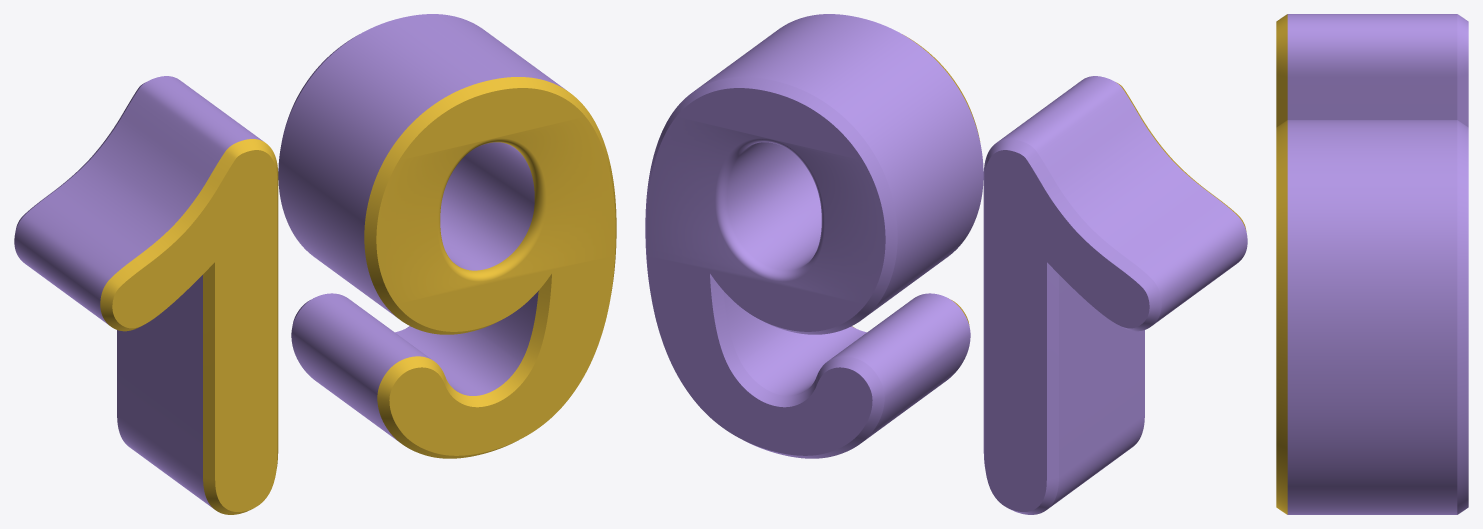
3 renders of one model, left to right at view 1: azimuth 30°, elevation 25°; view 2: azimuth 150°, elevation 25°; view 3: azimuth 270°, elevation 25°, orthographic.
Visible parts, largest first — view 1: Text.020; view 2: Text.020; view 3: Text.020.
Part boxes in pixels (left/top/right/bottom): Text.020: left=14, top=14, right=616, bottom=514; Text.020: left=645, top=14, right=1247, bottom=514; Text.020: left=1276, top=14, right=1468, bottom=514.
Bounding box in the file's own units: 238 × 164 × 77.6.
